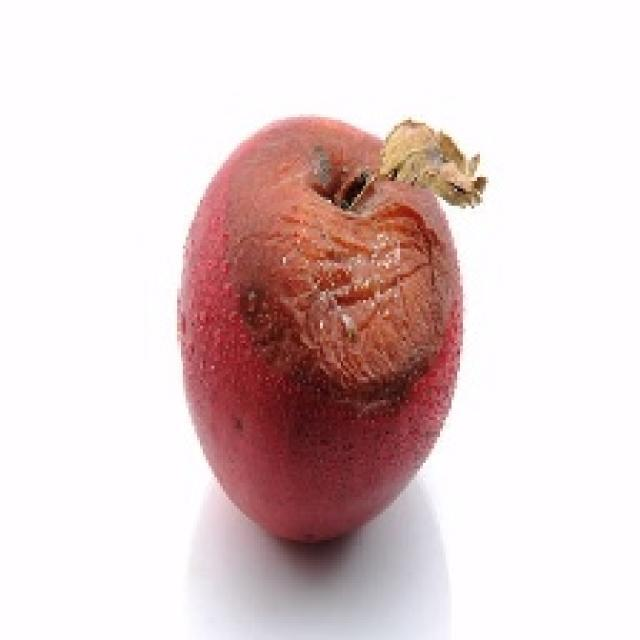apple: (178, 118, 462, 541)
